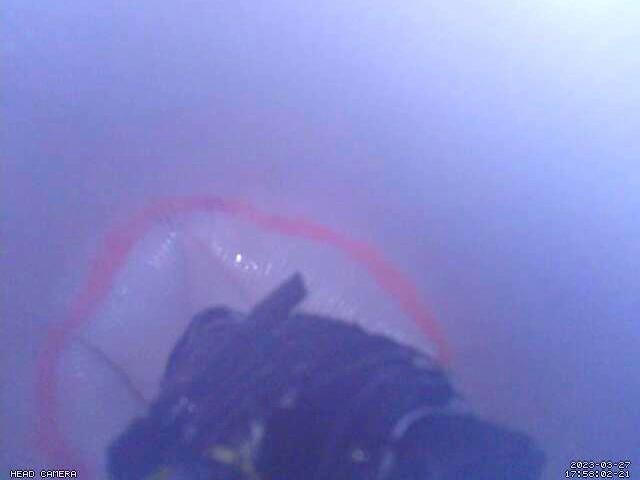head: (31, 194, 451, 480)
